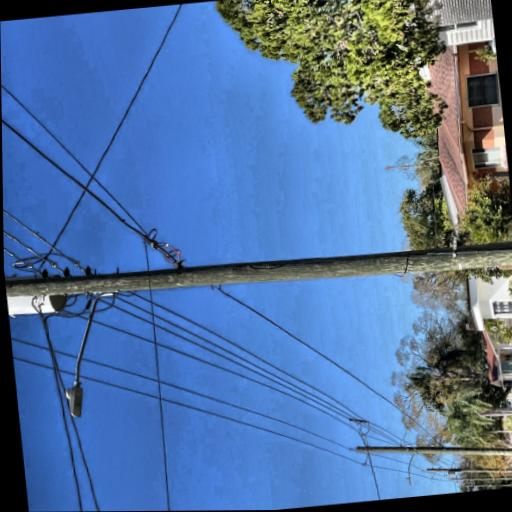pole: (59, 10, 174, 512)
street light: (3, 196, 113, 278)
transformer: (82, 127, 127, 212)
